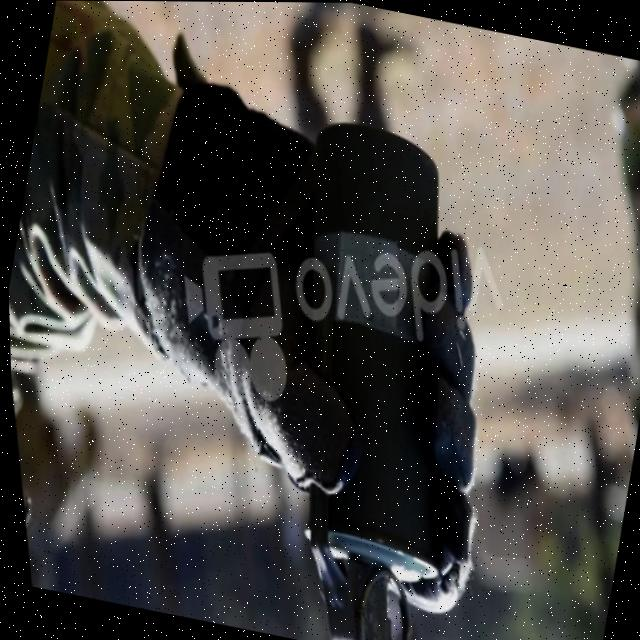grenade: (174, 83, 583, 640)
